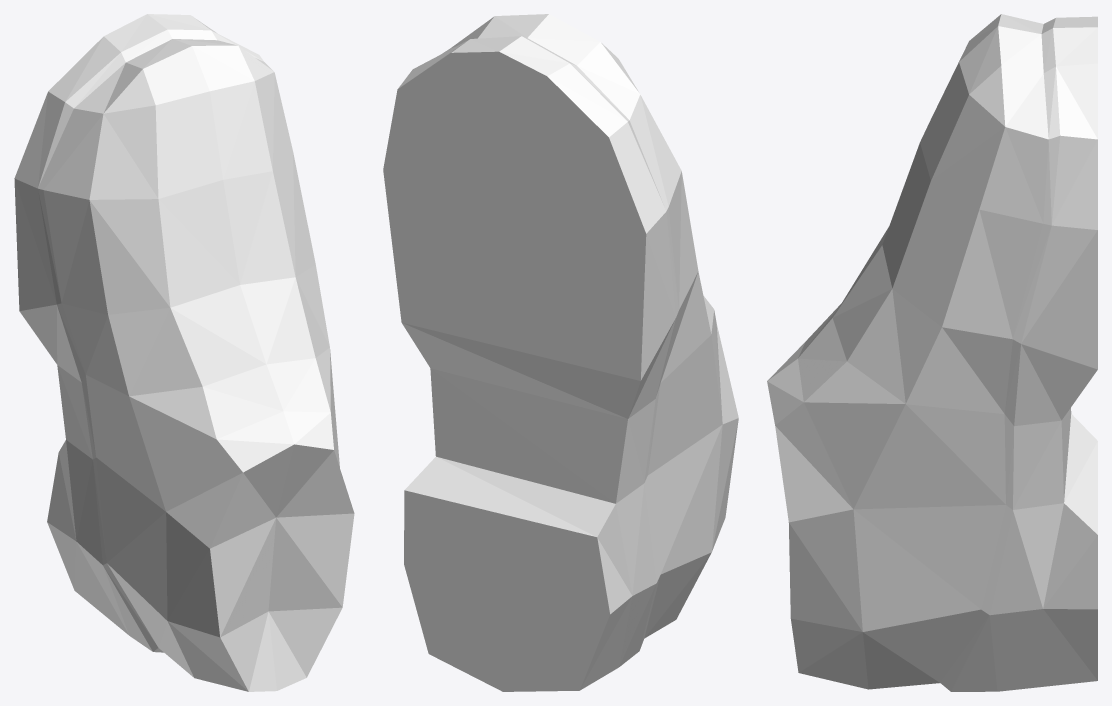
File: l_foot.dae
The picture shows the model from 3 angles, left to right: view 1: azimuth 30°, elevation 25°; view 2: azimuth 150°, elevation 25°; view 3: azimuth 270°, elevation 25°; orthographic projection. The views are drawn at different scales.
Parts seen in each view (by area): view 1: node; view 2: node; view 3: node.
Part boxes in pixels (<box>): node: <box>14,14,354,691</box>; node: <box>383,14,738,691</box>; node: <box>767,14,1097,691</box>.
Size of the model in its own units: 0.1154 by 0.2766 by 0.1254.
Materials: 1 (1 with a texture image).
